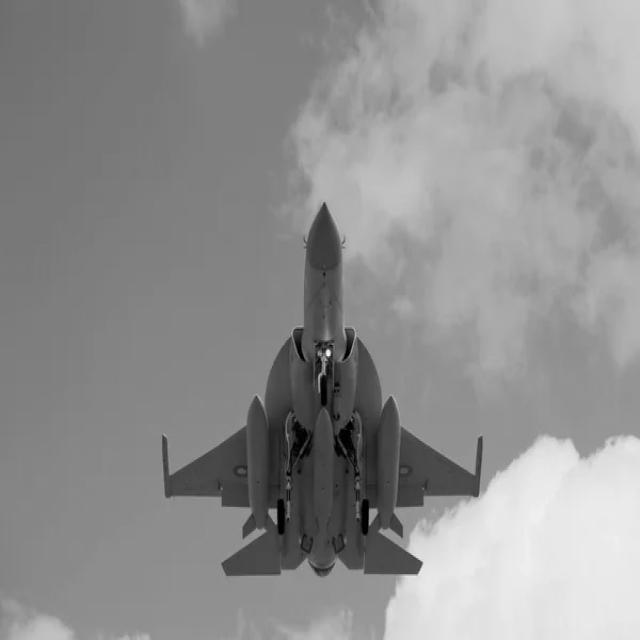Aircraft: (142, 192, 494, 594)
